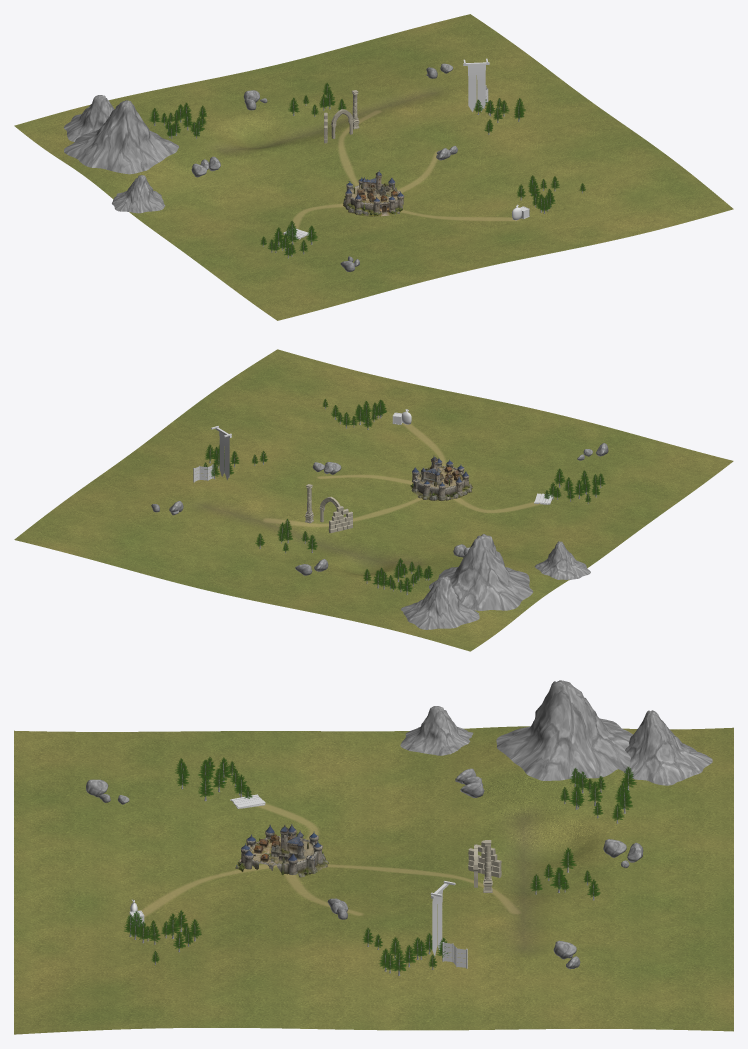
File: artist-output.glb
3 renders of one model, top to bottom at view 1: azimuth 30°, elevation 25°; view 2: azimuth 150°, elevation 25°; view 3: azimuth 270°, elevation 25°, orthographic. The views are drawn at different scales.
Visible parts, largest first — view 1: ZoneOne continuous prairie source, Mountain01_LOD0.001, Eldoria_MultiPiece_Group_05, Mountain01_LOD0.003, Mountain01_LOD0.002, canvas_on_wall; view 2: ZoneOne continuous prairie source, Mountain01_LOD0.001, Mountain01_LOD0.002, Eldoria_MultiPiece_Group_05, Mountain01_LOD0.003, canvas_on_wall; view 3: ZoneOne continuous prairie source, Mountain01_LOD0.001, Mountain01_LOD0.002, Eldoria_MultiPiece_Group_05, Mountain01_LOD0.003, canvas_on_wall, Wall_Broken.
Part boxes in pixels (<box>): ZoneOne continuous prairie source: <box>14,14,733,320</box>; Mountain01_LOD0.001: <box>64,100,178,174</box>; Eldoria_MultiPiece_Group_05: <box>343,170,404,216</box>; Mountain01_LOD0.003: <box>112,175,165,213</box>; Mountain01_LOD0.002: <box>63,95,114,141</box>; canvas_on_wall: <box>463,58,489,111</box>; ZoneOne continuous prairie source: <box>14,349,733,651</box>; Mountain01_LOD0.001: <box>429,534,533,610</box>; Mountain01_LOD0.002: <box>401,576,479,629</box>; Eldoria_MultiPiece_Group_05: <box>410,455,472,500</box>; Mountain01_LOD0.003: <box>534,541,590,580</box>; canvas_on_wall: <box>211,426,231,480</box>; ZoneOne continuous prairie source: <box>14,726,733,1034</box>; Mountain01_LOD0.001: <box>496,680,633,780</box>; Mountain01_LOD0.002: <box>619,710,712,785</box>; Eldoria_MultiPiece_Group_05: <box>235,824,328,877</box>; Mountain01_LOD0.003: <box>400,706,473,755</box>; canvas_on_wall: <box>430,881,455,956</box>; Wall_Broken: <box>468,840,501,877</box>.
Size of the model in its own units: 245 by 34.28 by 240.
Materials: 17 (6 with a texture image).
